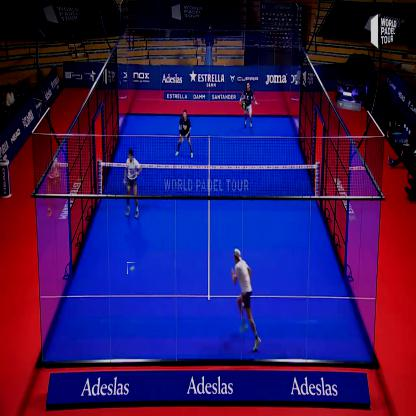ball: (127, 262, 136, 275)
